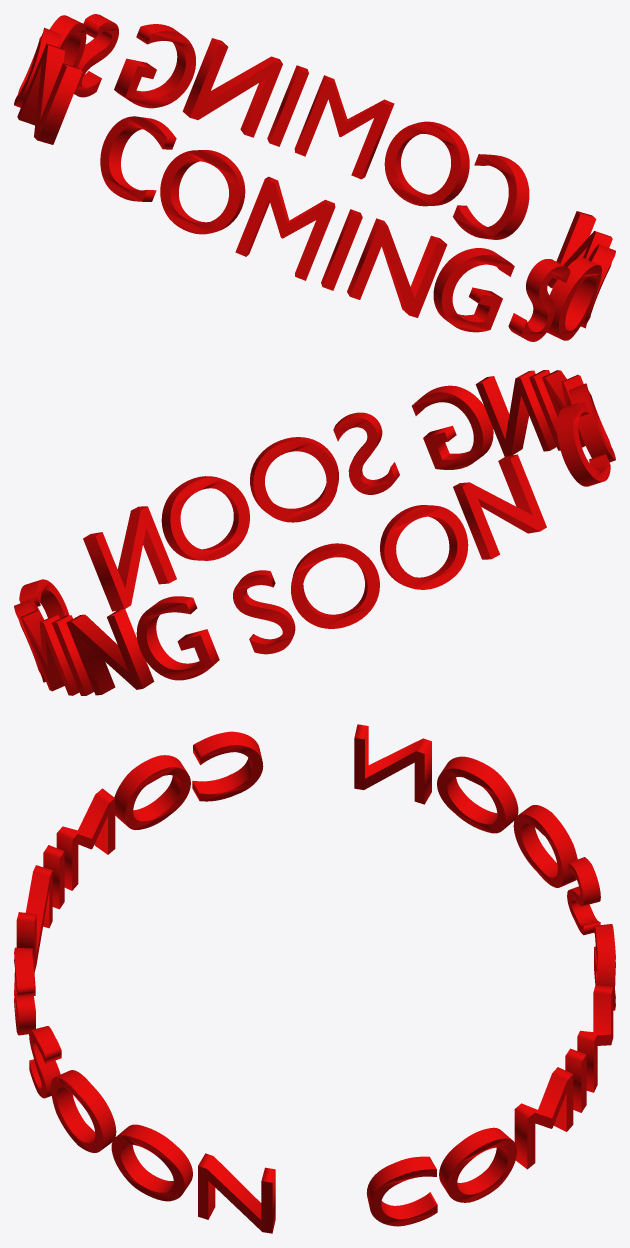
Rendered from cs_app.glb.
The picture shows the model from 3 angles, top to bottom: view 1: azimuth 30°, elevation 25°; view 2: azimuth 150°, elevation 25°; view 3: azimuth 270°, elevation 25°; orthographic projection. The views are drawn at different scales.
Visible parts, largest first — view 1: Text.002; view 2: Text.002; view 3: Text.002.
Boxes of the visible parts, x1=… form: Text.002: x1=14, y1=14, x2=615, y2=341; Text.002: x1=14, y1=370, x2=615, y2=695; Text.002: x1=14, y1=724, x2=615, y2=1233.
Size of the model in its own units: 0.4406 by 0.2476 by 0.4599.
